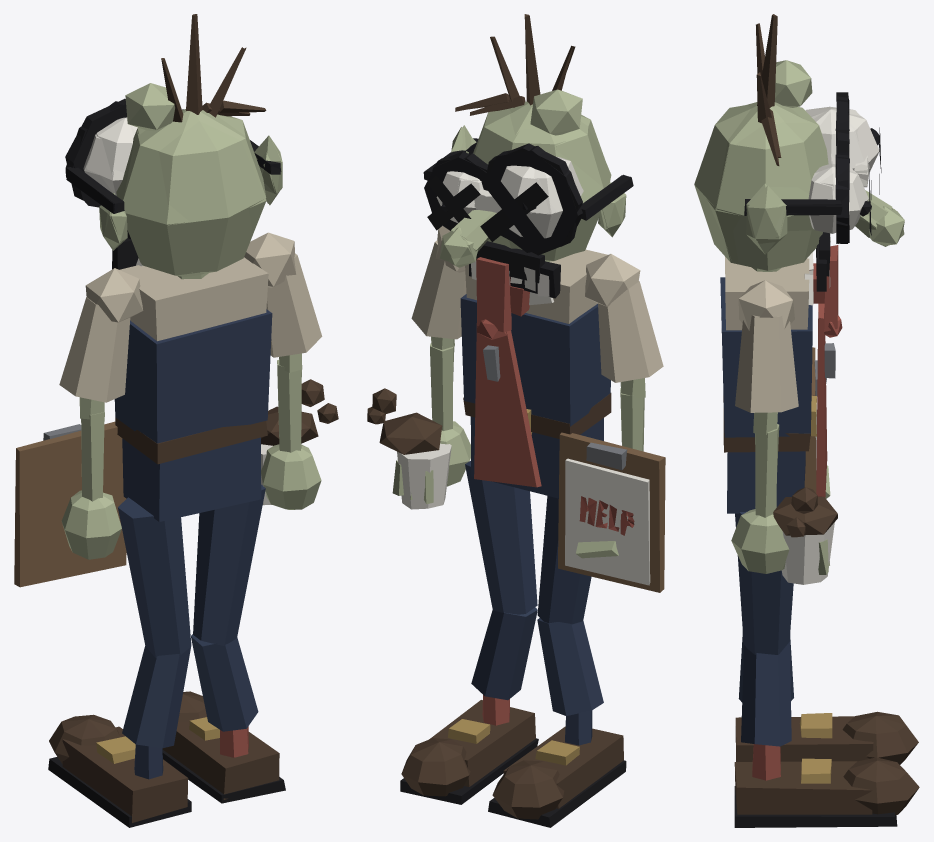
Rendered from intern.glb.
3 views of the same model, side by side, from view 1: azimuth 30°, elevation 25°; view 2: azimuth 150°, elevation 25°; view 3: azimuth 270°, elevation 25° (orthographic). The views are drawn at different scales.
Visible parts, largest first — view 1: chest, head, forearm_l, shin_l, head_ko, shin_r, pelvis, thigh_l, upper_arm_l, thigh_r, forearm_r, upper_arm_r; view 2: chest, head_ko, forearm_l, head, shin_l, shin_r, forearm_r, upper_arm_l, thigh_r, upper_arm_r, pelvis, thigh_l; view 3: head, shin_r, head_ko, chest, forearm_r, upper_arm_r, shin_l, pelvis, thigh_r, forearm_l.
Part boxes in pixels (x1,y1,x2,y2): chest: (114,257,272,443); head: (66,14,281,279); forearm_l: (14,412,126,587); shin_l: (48,646,191,827); head_ko: (65,83,282,278); shin_r: (162,634,285,803); pelvis: (115,417,267,521); thigh_l: (118,497,191,657); upper_arm_l: (59,268,143,419); thigh_r: (193,484,265,646); forearm_r: (261,360,338,509); upper_arm_r: (244,232,322,372); chest: (460,249,610,487); head_ko: (424,89,631,339); forearm_l: (558,388,665,592); head: (423,14,633,298); shin_l: (488,618,626,827); shin_r: (400,607,538,804); forearm_r: (367,343,470,509); upper_arm_l: (585,254,663,397); thigh_r: (465,461,537,614); upper_arm_r: (411,226,466,349); pelvis: (463,393,611,498); thigh_l: (537,496,591,624); head: (694,14,904,291); shin_r: (734,641,919,827); head_ko: (707,60,904,337); chest: (720,252,835,497); forearm_r: (731,424,837,584); upper_arm_r: (735,280,798,434); shin_l: (735,631,918,764); pelvis: (723,396,816,513); thigh_r: (735,511,793,654); forearm_l: (804,347,830,498).
Bounding box in the file's own units: 0.9483 × 2.26 × 0.5923.
